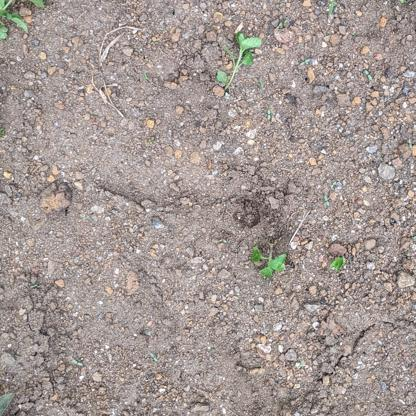weed: (216, 30, 263, 86), (249, 239, 290, 277)
